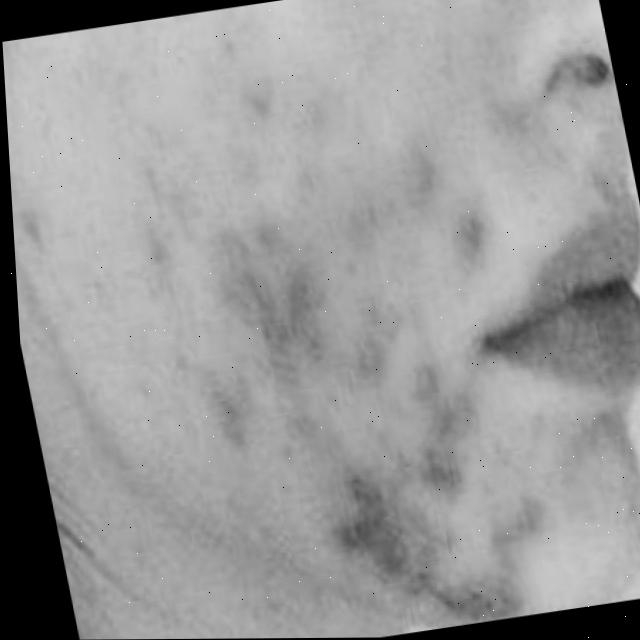Acne: (82, 0, 570, 639)
